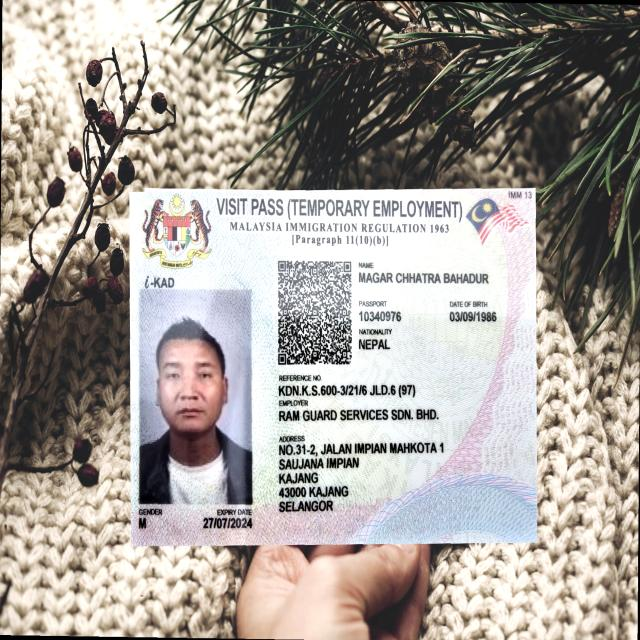ikad-temp: (128, 186, 538, 547)
